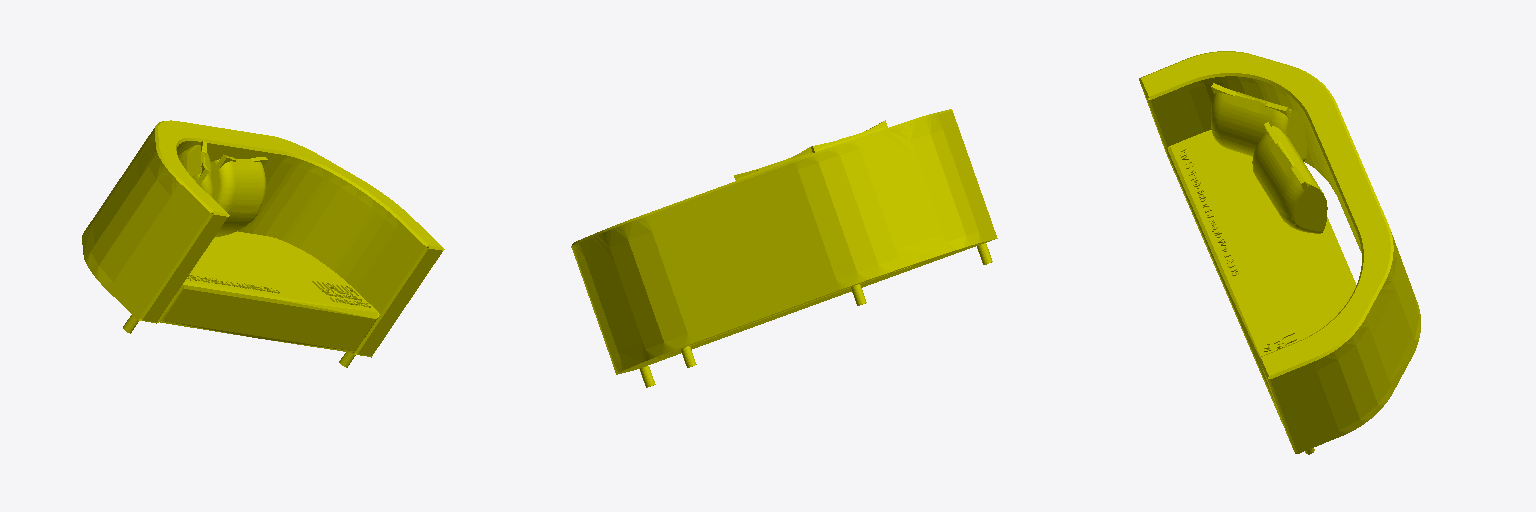
Rendered from sofa.obj.
3 renders of one model, left to right at view 1: azimuth 30°, elevation 25°; view 2: azimuth 150°, elevation 25°; view 3: azimuth 270°, elevation 25°, orthographic.
Visible parts, largest first — view 1: Shape5, Shape7, Shape78, Shape74, Shape10, Shape52, Shape0, Shape2, Shape84, Shape14, Shape54, Shape45; view 2: Shape7, Shape76, Shape15, Shape4; view 3: Shape78, Shape7, Shape10, Shape5, Shape29, Shape52, Shape84, Shape15, Shape55, Shape14, Shape56, Shape68 (+1 smaller).
Part boxes in pixels (left/top/right/bottom): Shape5: left=177, top=141, right=425, bottom=353; Shape7: left=82, top=128, right=209, bottom=319; Shape78: left=185, top=231, right=377, bottom=311; Shape74: left=163, top=289, right=375, bottom=350; Shape10: left=158, top=120, right=441, bottom=246; Shape52: left=214, top=159, right=263, bottom=237; Shape0: left=358, top=249, right=442, bottom=355; Shape2: left=143, top=215, right=227, bottom=321; Shape84: left=183, top=282, right=379, bottom=318; Shape14: left=176, top=138, right=428, bottom=246; Shape54: left=215, top=159, right=235, bottom=212; Shape45: left=178, top=145, right=203, bottom=176; Shape7: left=571, top=111, right=997, bottom=373; Shape76: left=646, top=249, right=966, bottom=363; Shape15: left=572, top=109, right=952, bottom=245; Shape4: left=616, top=239, right=994, bottom=374; Shape78: left=1170, top=130, right=1355, bottom=356; Shape7: left=1270, top=232, right=1420, bottom=453; Shape10: left=1141, top=52, right=1390, bottom=375; Shape5: left=1150, top=76, right=1361, bottom=252; Shape29: left=1219, top=94, right=1273, bottom=156; Shape52: left=1254, top=137, right=1294, bottom=214; Shape84: left=1167, top=146, right=1274, bottom=401; Shape15: left=1141, top=51, right=1393, bottom=378; Shape55: left=1294, top=185, right=1327, bottom=230; Shape14: left=1148, top=73, right=1363, bottom=356; Shape56: left=1279, top=176, right=1322, bottom=233; Shape68: left=1272, top=126, right=1323, bottom=193.
Bounding box in the file's own units: 2.08 × 1.6 × 1.39.